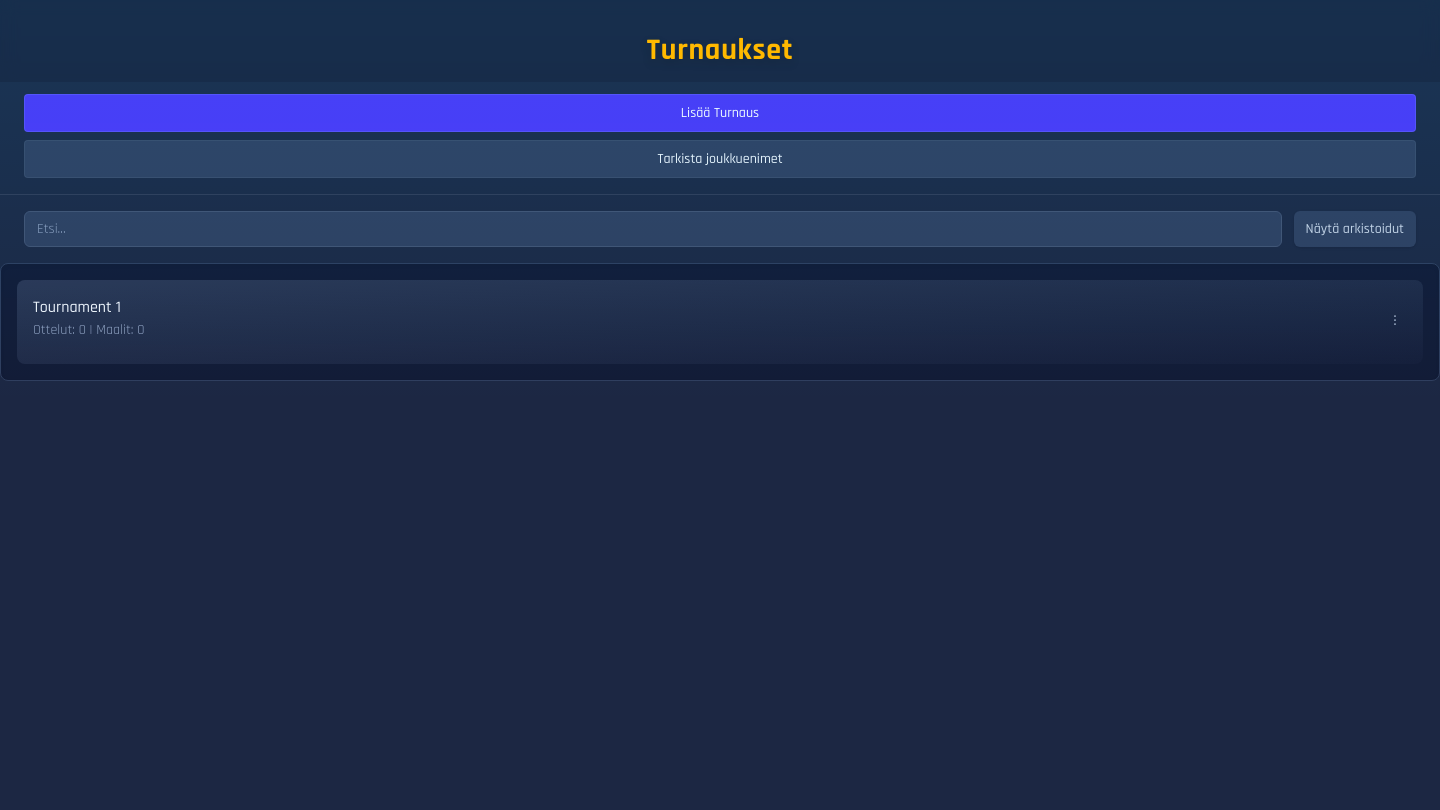
Test: SeasonTournamentManagementModal › opens tournament details modal when clicking edit in actions menu
Click the button named "tournament actions": (1395, 320) [1383, 308, 1407, 332]
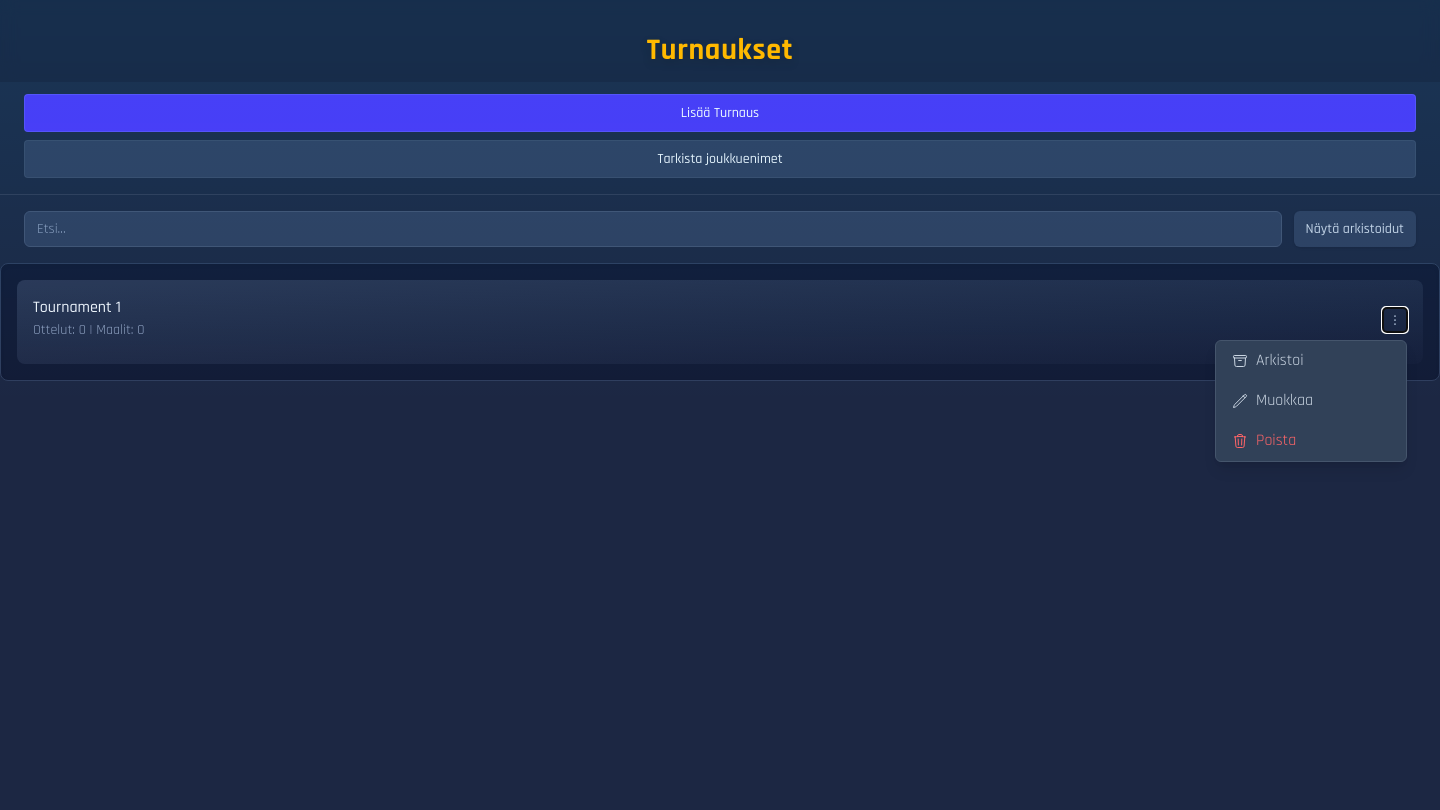
Click the button "Muokkaa": (1311, 400) [1216, 380, 1406, 420]
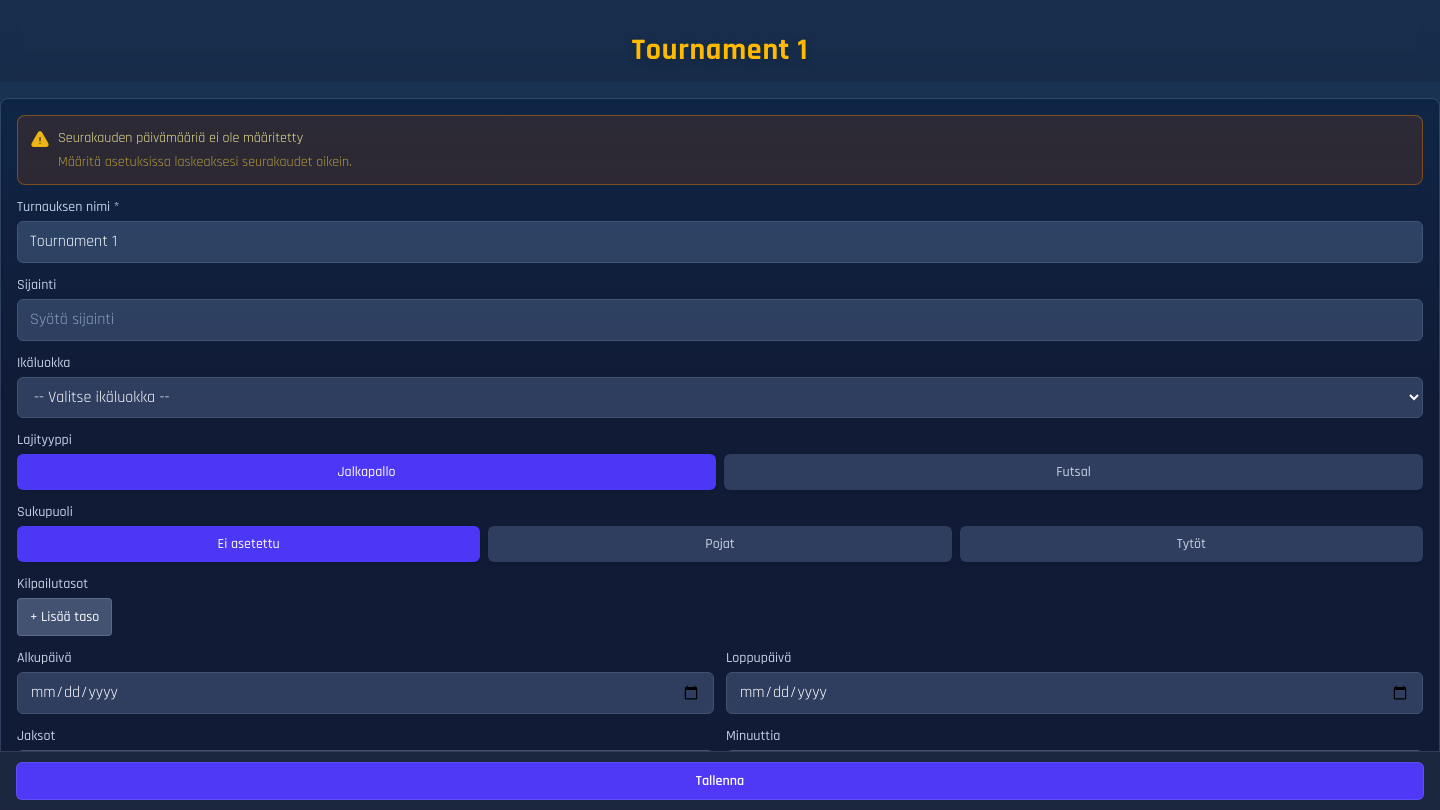
Now the heading "Tournament 1" is shown, box [632, 31, 808, 69]
